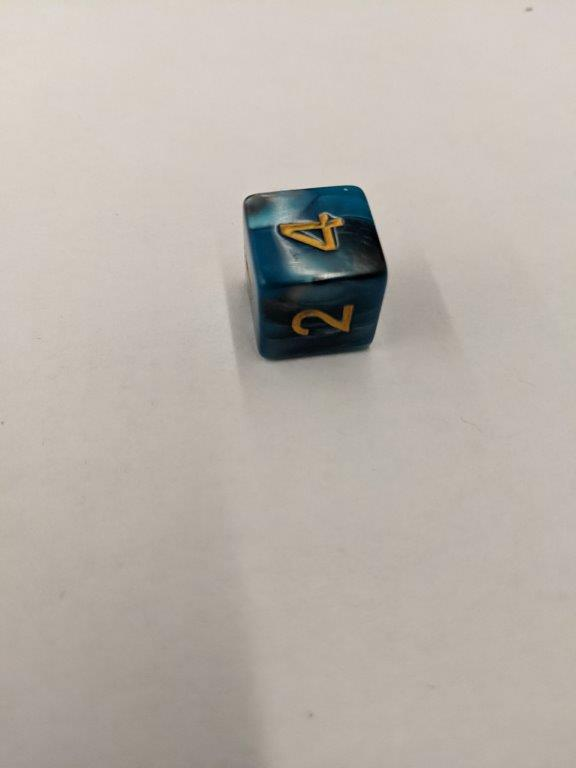d6-4: (243, 184, 391, 363)
